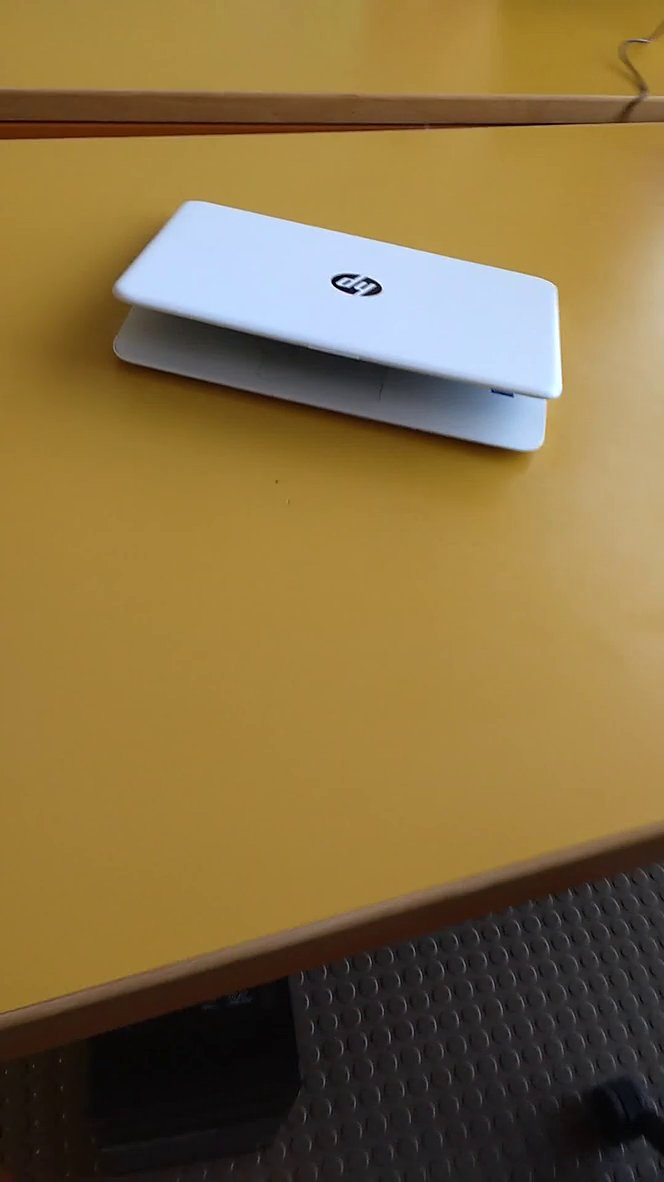laptop: (99, 186, 591, 480)
